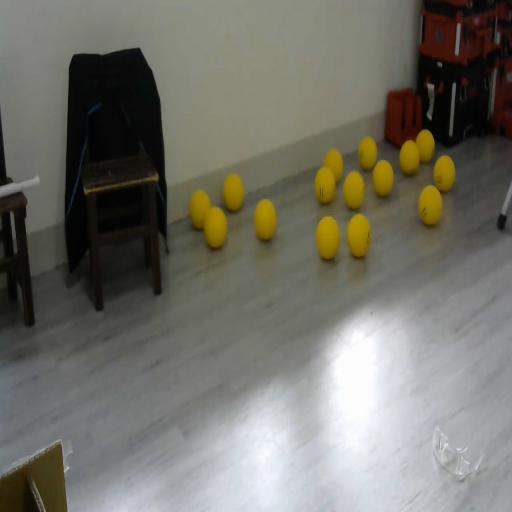FUEL: (203, 204, 228, 250), (253, 197, 278, 242), (316, 214, 340, 260), (347, 213, 371, 258), (418, 185, 442, 226), (222, 172, 245, 212), (343, 170, 364, 210), (372, 159, 394, 197), (434, 155, 456, 192), (399, 139, 420, 175), (324, 148, 344, 183), (415, 129, 435, 163), (358, 136, 377, 170)
